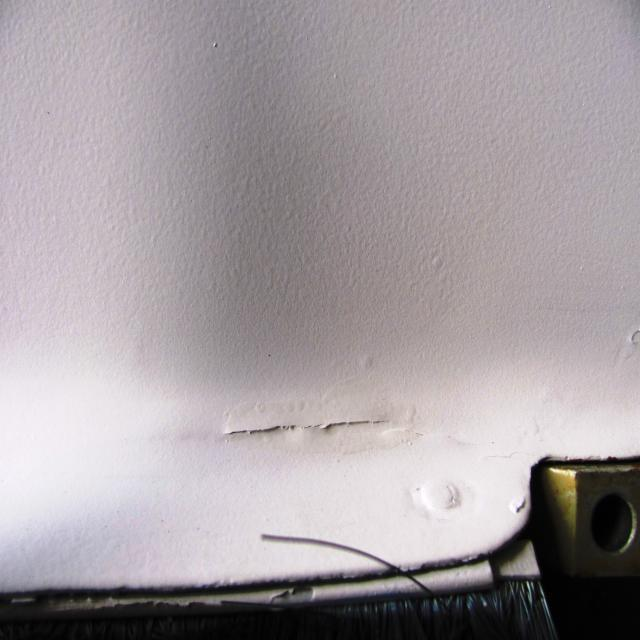Missing Fastener: (582, 472, 640, 570)
